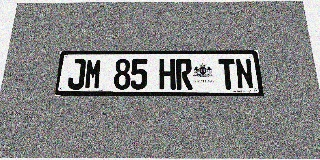5: (131, 59, 148, 89)
8: (113, 59, 131, 89)
H: (159, 59, 176, 89)
J: (67, 59, 86, 89)
M: (84, 59, 102, 89)
N: (235, 59, 254, 89)
R: (176, 59, 193, 89)
T: (218, 59, 237, 89)
